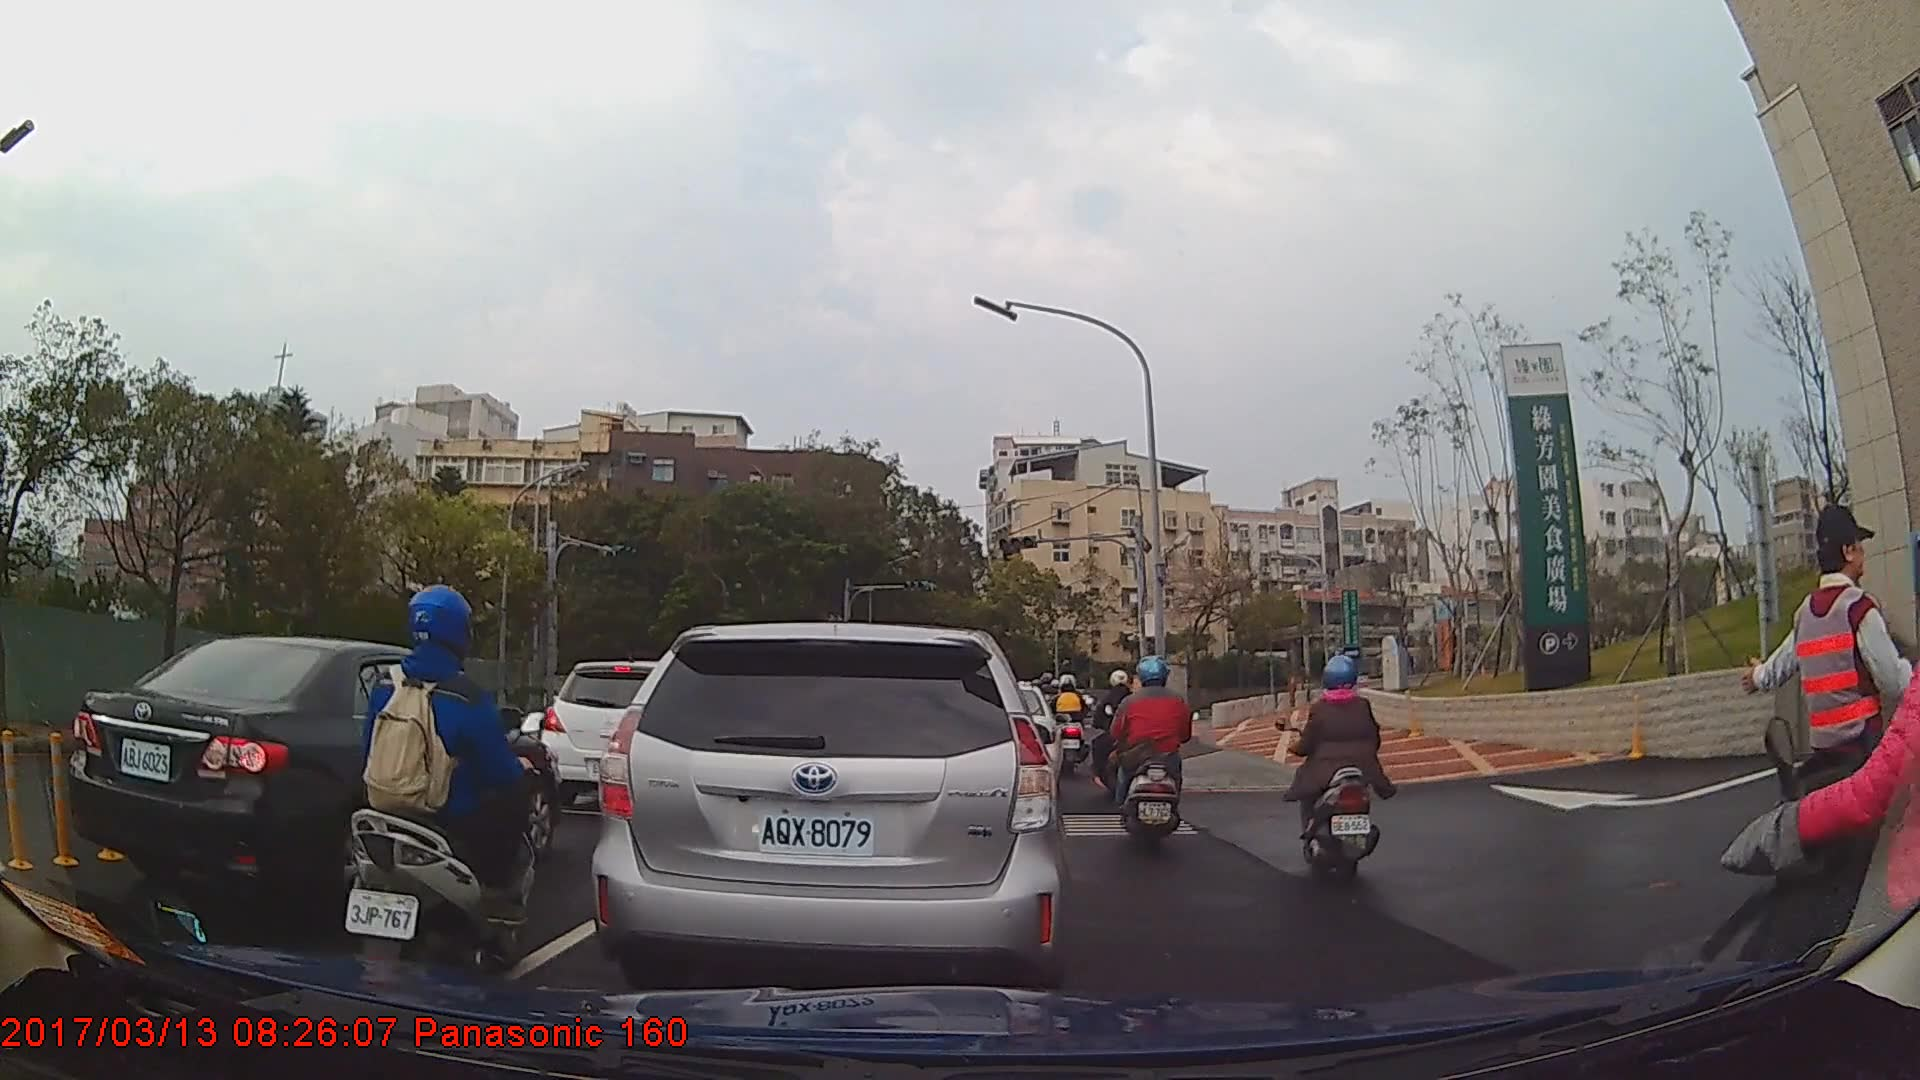pedestrian: (1743, 502, 1915, 979)
rider: (345, 580, 547, 1008), (1293, 649, 1386, 889), (1110, 654, 1196, 848), (1094, 668, 1144, 805), (1053, 670, 1090, 776)
vehicle: (590, 620, 1068, 996), (68, 632, 562, 909), (542, 660, 699, 809)
